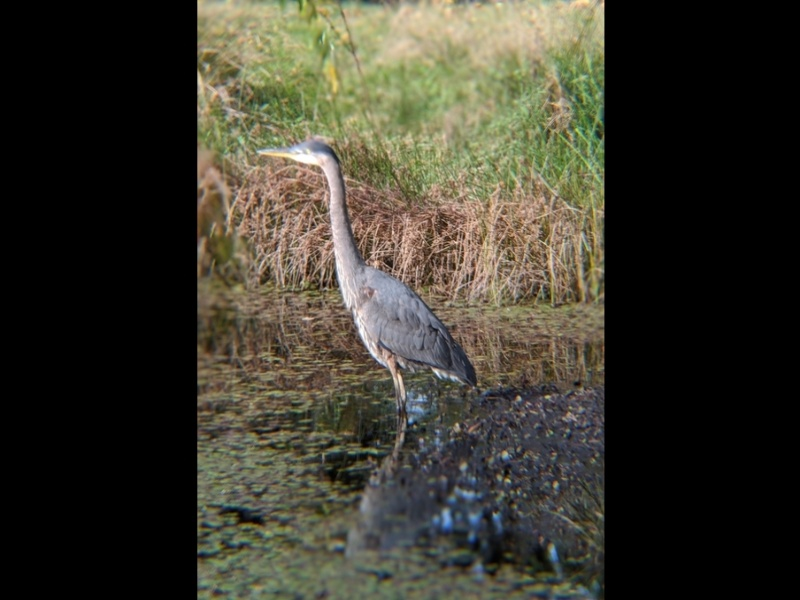heron: (255, 142, 477, 453)
